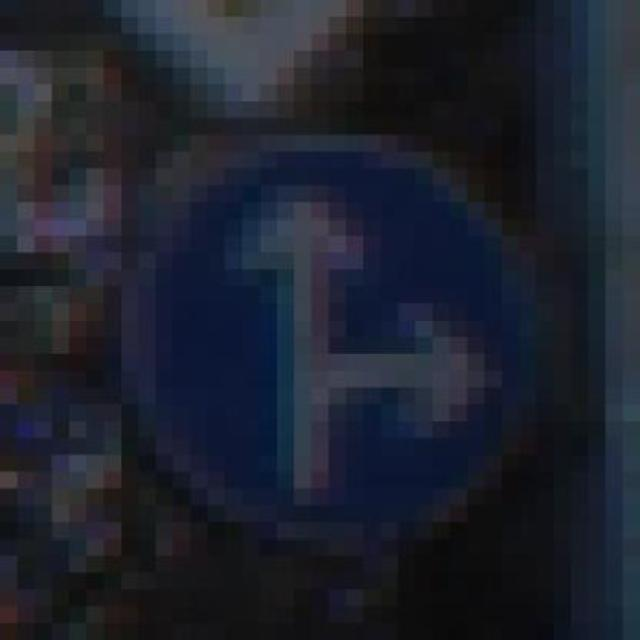Go Straight or Turn Right: (104, 118, 588, 573)
